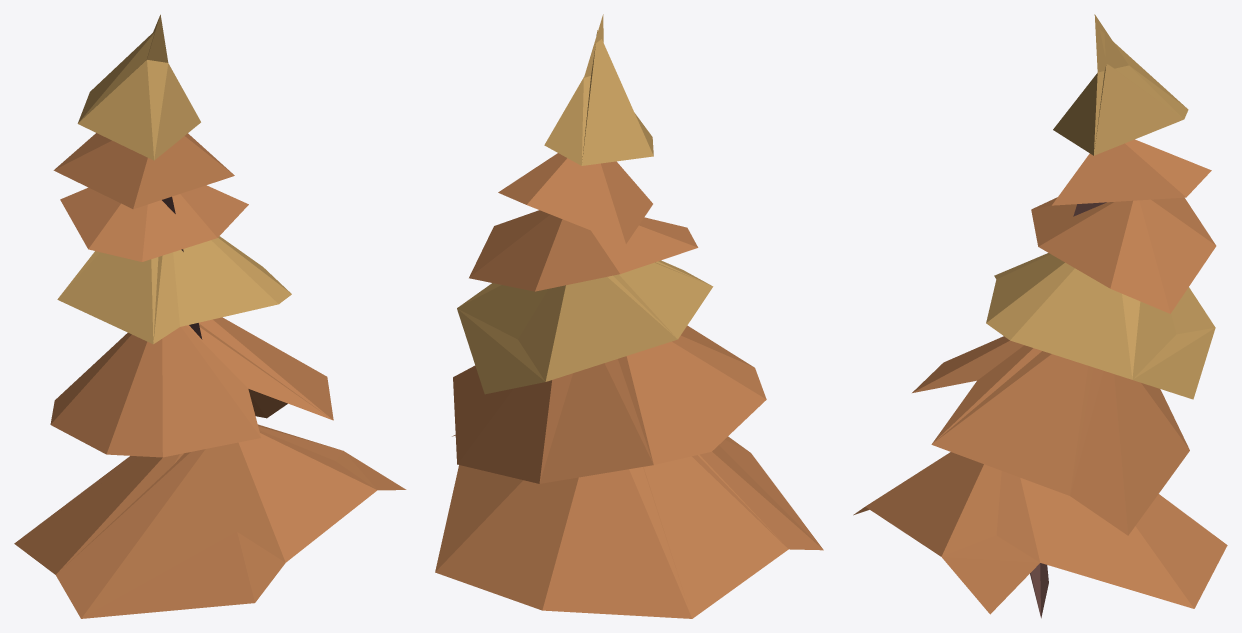
File: PineTree_Autumn_3.lod3.glb
3 views of the same model, side by side, from view 1: azimuth 30°, elevation 25°; view 2: azimuth 150°, elevation 25°; view 3: azimuth 270°, elevation 25° (orthographic). The views are drawn at different scales.
Visible parts, largest first — view 1: PineTree_Autumn_3; view 2: PineTree_Autumn_3; view 3: PineTree_Autumn_3.
Boxes of the visible parts, x1=… form: PineTree_Autumn_3: x1=14, y1=14, x2=406, y2=618; PineTree_Autumn_3: x1=435, y1=14, x2=823, y2=618; PineTree_Autumn_3: x1=853, y1=14, x2=1227, y2=618.
Bounding box in the file's own units: 2.1 × 3.3 × 1.95.
